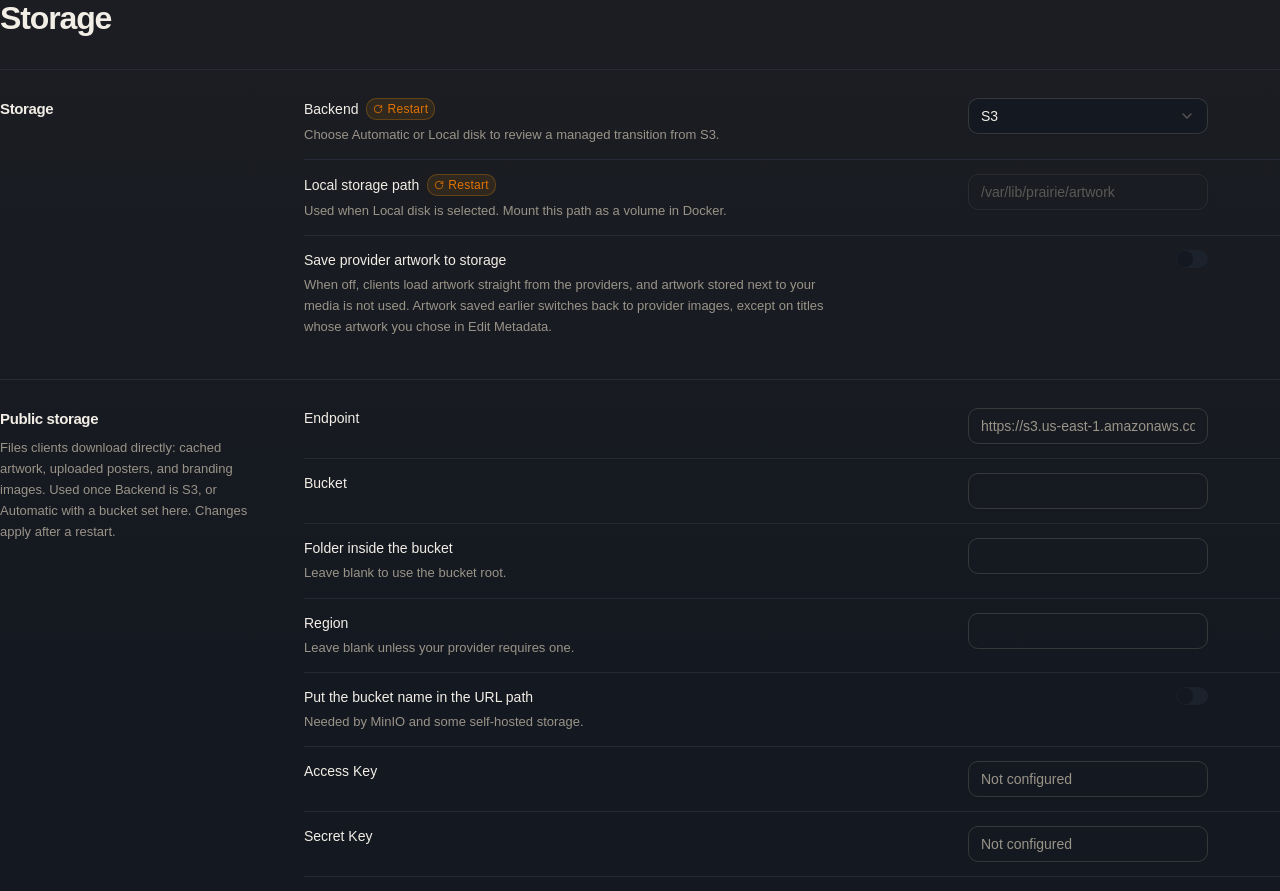
it: StorageSettings › opens the managed transition when a locked S3 backend changes
Check: the text "Choose Automatic or Local disk" is shown, box [304, 127, 720, 142]
Check: the field labelled "Local storage path" is disabled, box [968, 174, 1208, 210]
Click the dropdown named "Backend" at x=1088, y=116, box [968, 98, 1208, 134]
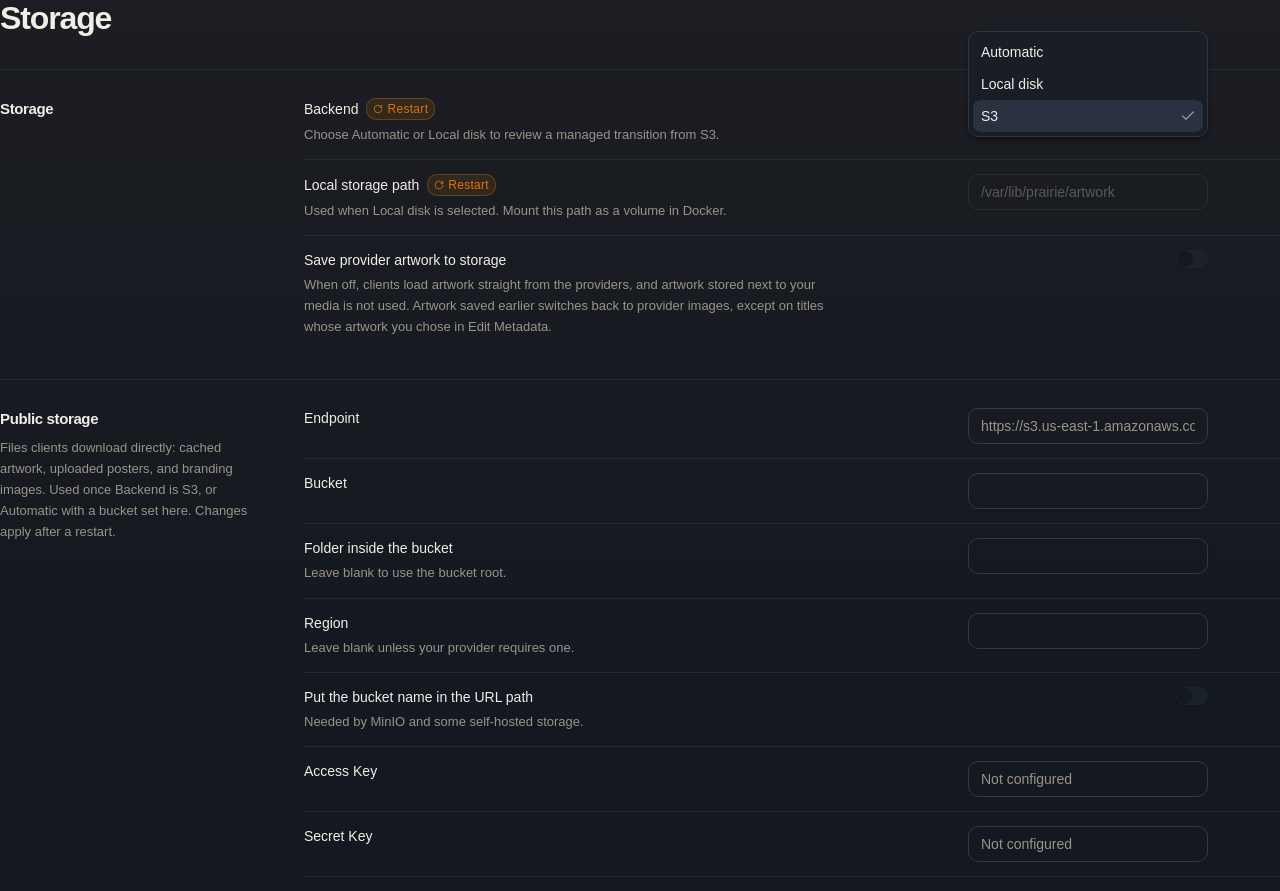
Click the option "Automatic" at x=1012, y=52, box [981, 44, 1043, 60]
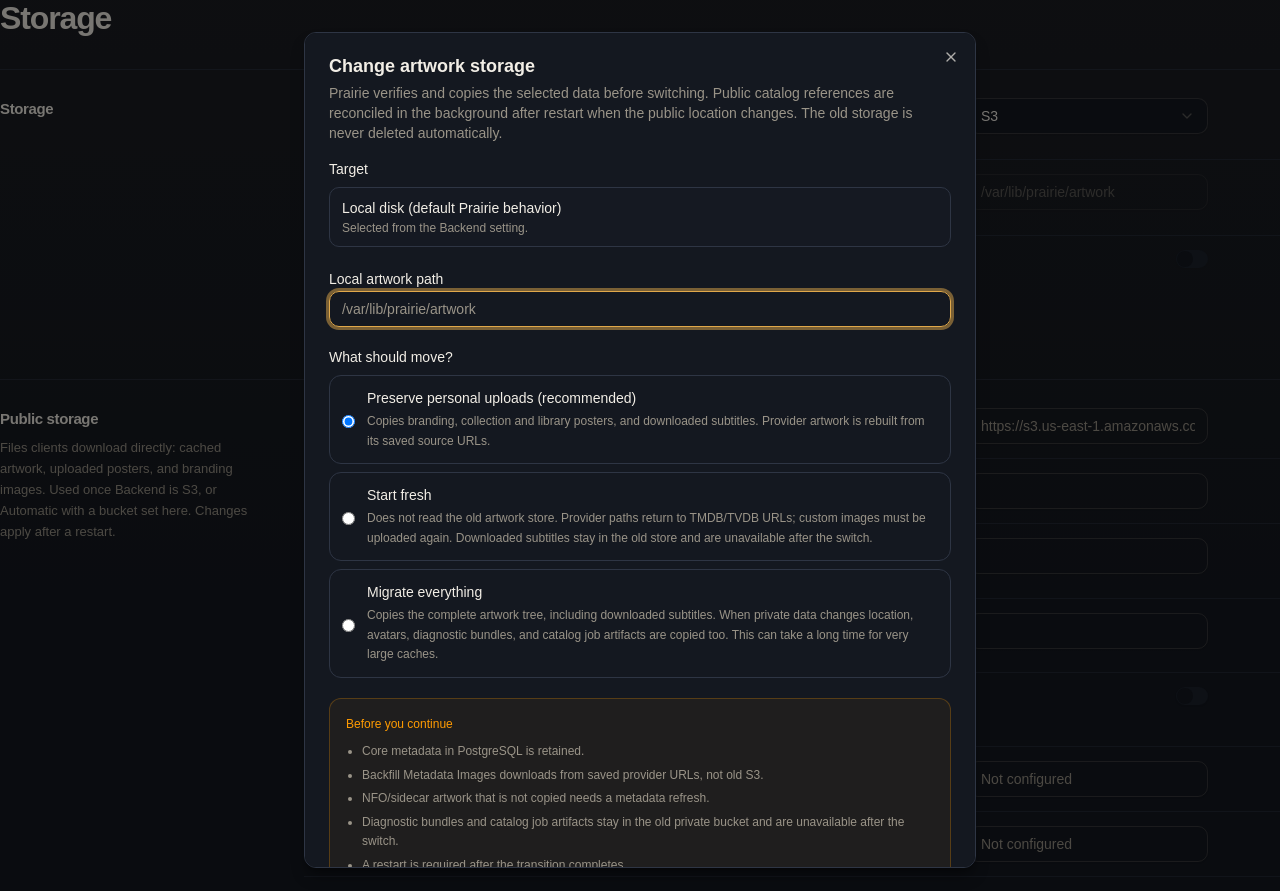
Check: the dialog "Change artwork storage" is shown, box [304, 32, 976, 868]
Check: the element named "Target" shows "Local disk (default Prairie behavior)", box [342, 200, 562, 216]
